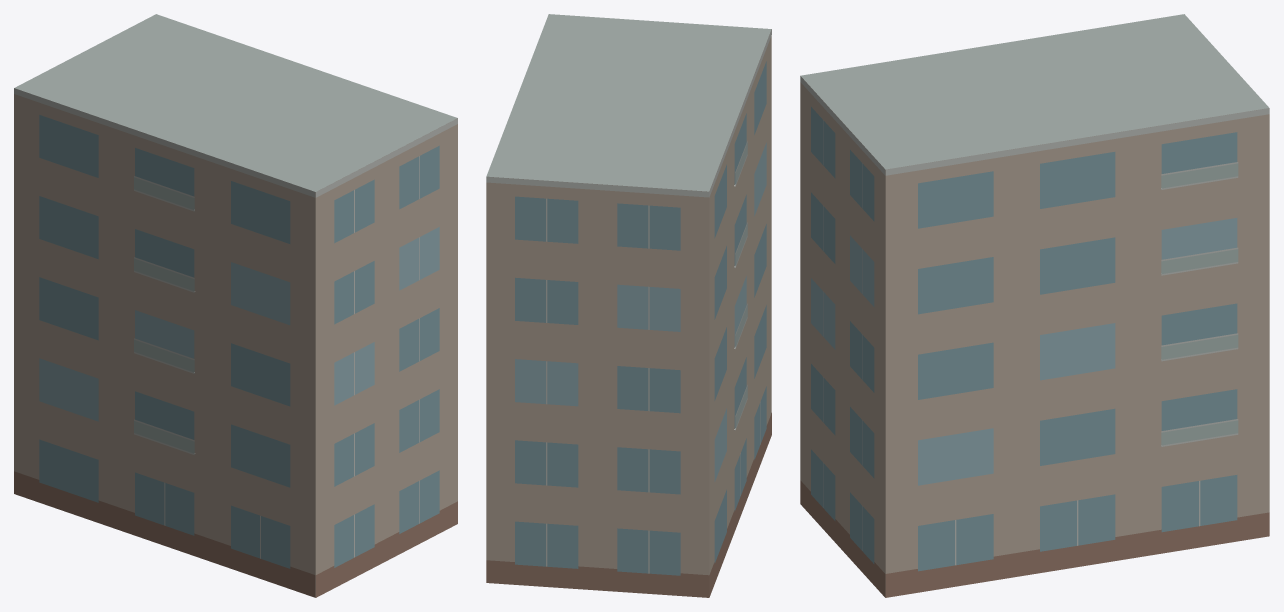
The model's file is survey-upis-32953381.glb.
The picture shows the model from 3 angles, left to right: view 1: azimuth 30°, elevation 25°; view 2: azimuth 150°, elevation 25°; view 3: azimuth 270°, elevation 25°; orthographic projection. The views are drawn at different scales.
Visible parts, largest first — view 1: survey-upis-32953381.tmp; view 2: survey-upis-32953381.tmp; view 3: survey-upis-32953381.tmp.
Boxes of the visible parts, <box> form: survey-upis-32953381.tmp: <box>14,14,457,597</box>; survey-upis-32953381.tmp: <box>486,14,771,597</box>; survey-upis-32953381.tmp: <box>800,14,1269,597</box>.
Bounding box in the file's own units: 13.1 × 16.8 × 16.69.
